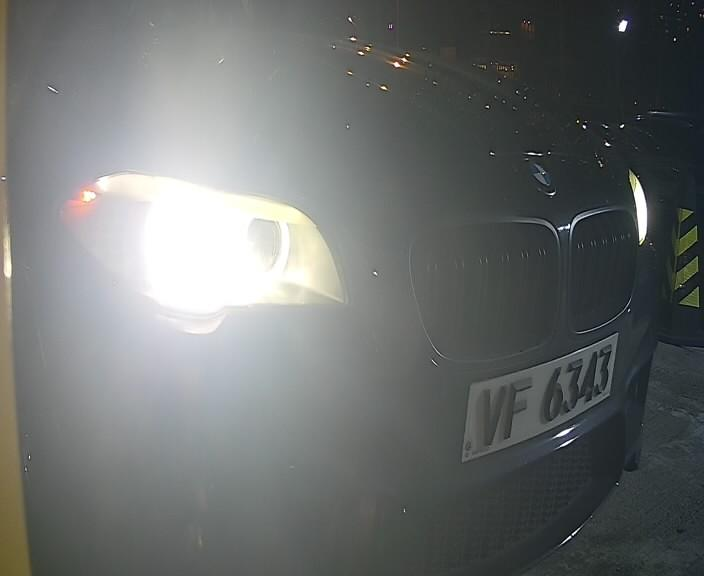License Plate: (449, 318, 631, 470)
